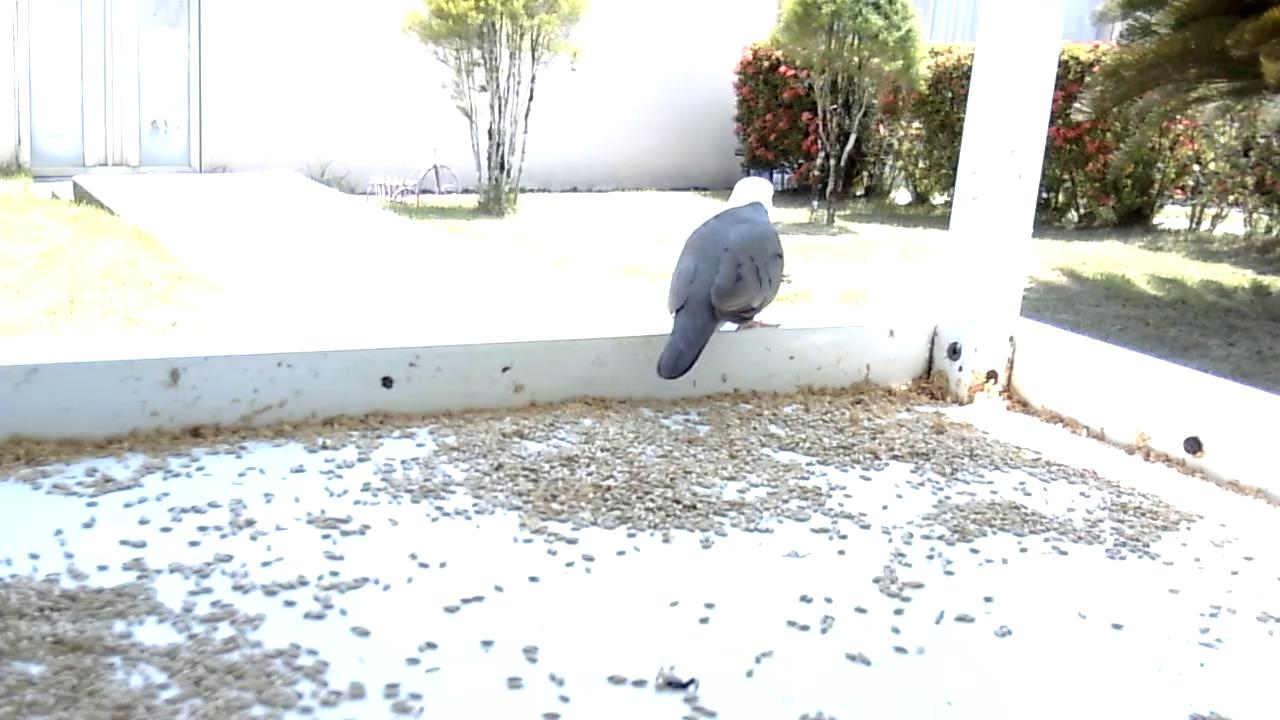rolinha: (655, 174, 791, 384)
